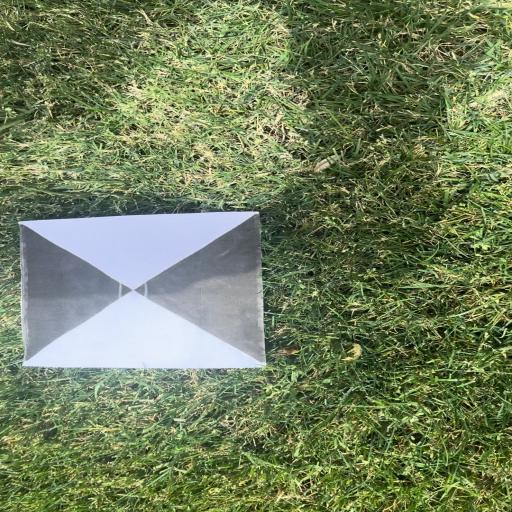target: (22, 211, 266, 366)
